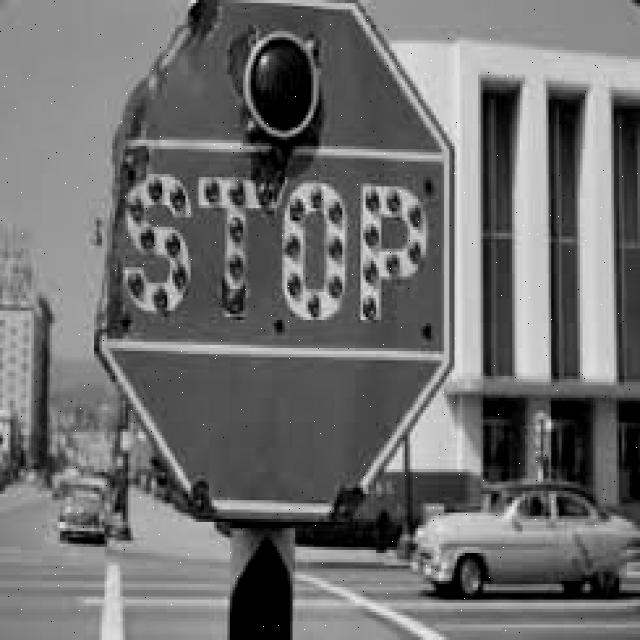stop sign: (99, 0, 458, 520)
